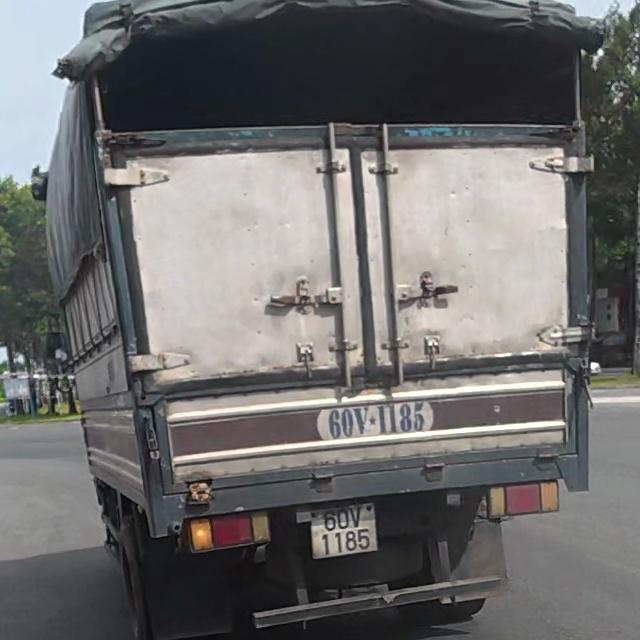license-plate: (309, 503, 379, 560)
